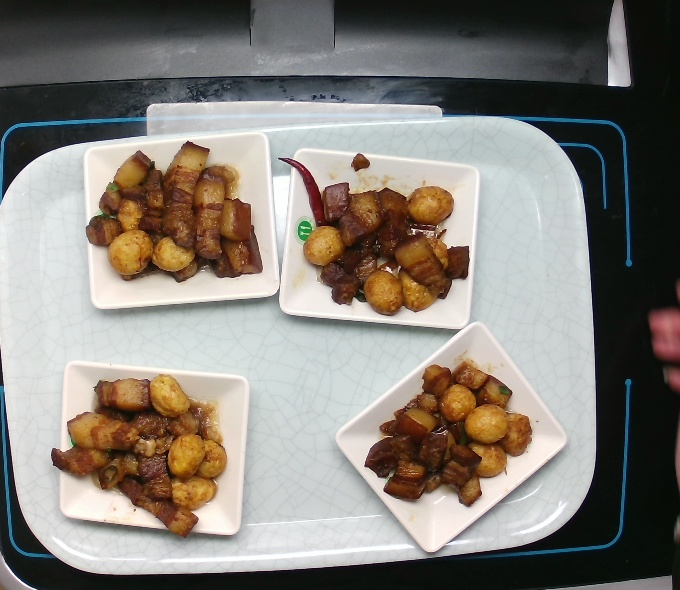wcq-HongShaoRouChaoAnChunDan: (279, 151, 474, 314), (50, 373, 245, 536), (355, 352, 550, 515), (79, 138, 267, 294)
